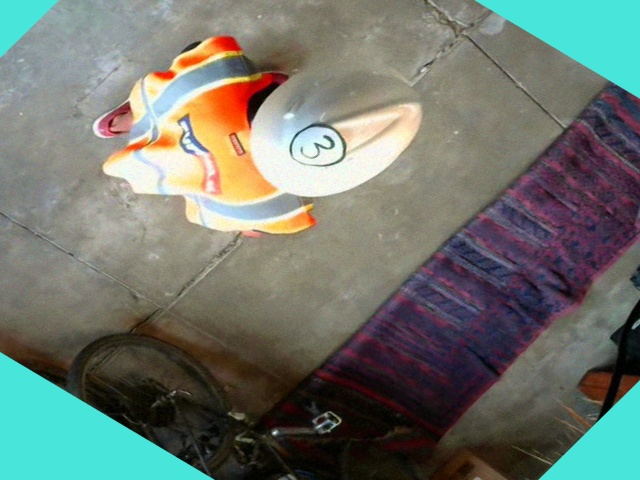three: (277, 116, 358, 178)
